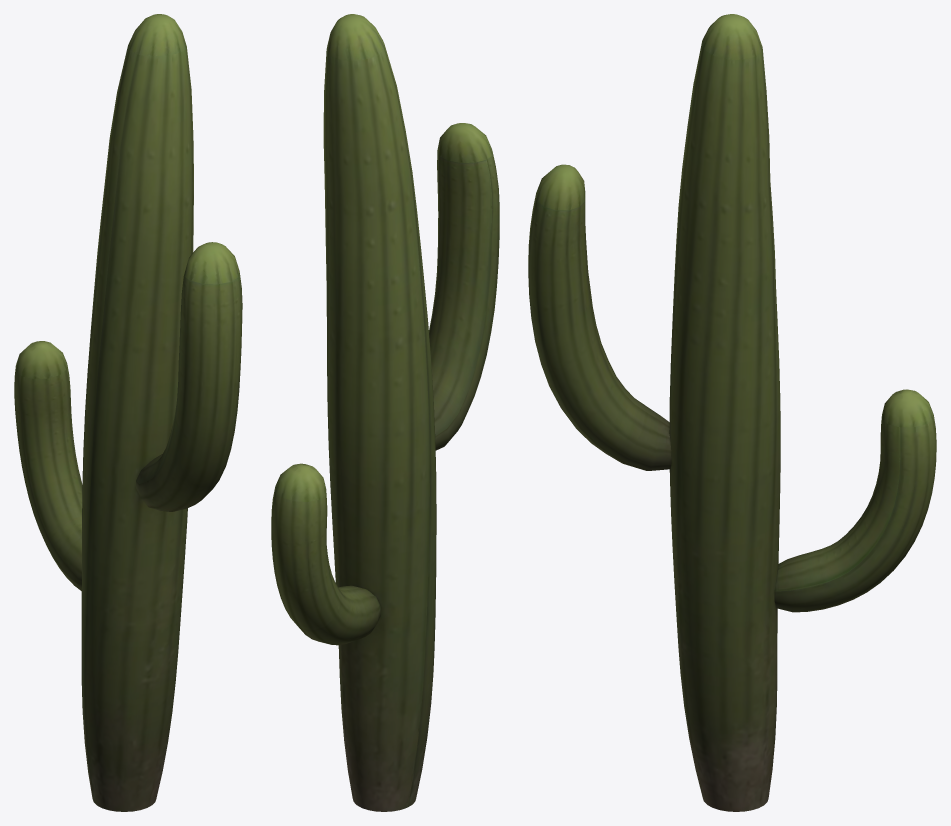
The picture shows the model from 3 angles, left to right: view 1: azimuth 30°, elevation 25°; view 2: azimuth 150°, elevation 25°; view 3: azimuth 270°, elevation 25°; orthographic projection. The views are drawn at different scales.
Visible parts, largest first — view 1: body0_model0_lod0_mesh0; view 2: body0_model0_lod0_mesh0; view 3: body0_model0_lod0_mesh0.
Boxes of the visible parts, left/top/right/bottom form: body0_model0_lod0_mesh0: left=14, top=14, right=242, bottom=811; body0_model0_lod0_mesh0: left=271, top=14, right=499, bottom=811; body0_model0_lod0_mesh0: left=528, top=14, right=936, bottom=811.
Bounding box in the file's own units: 22.21 × 164 × 75.88.
1 material, 1 textured.
